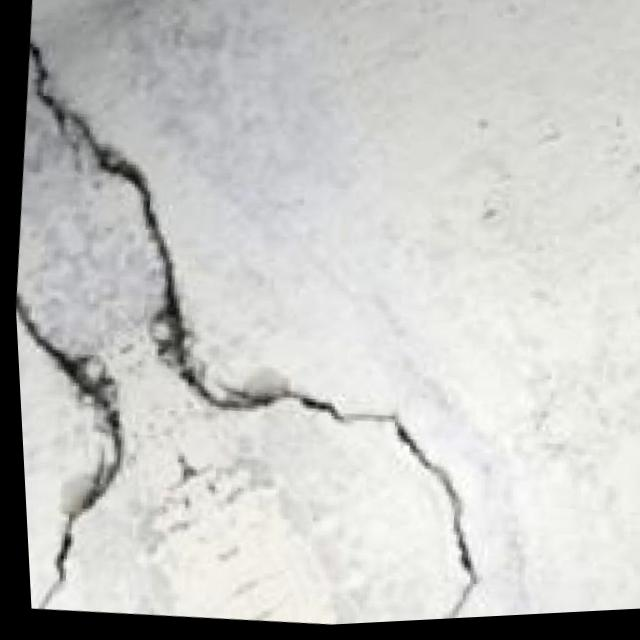Crack: (1, 13, 537, 640)
